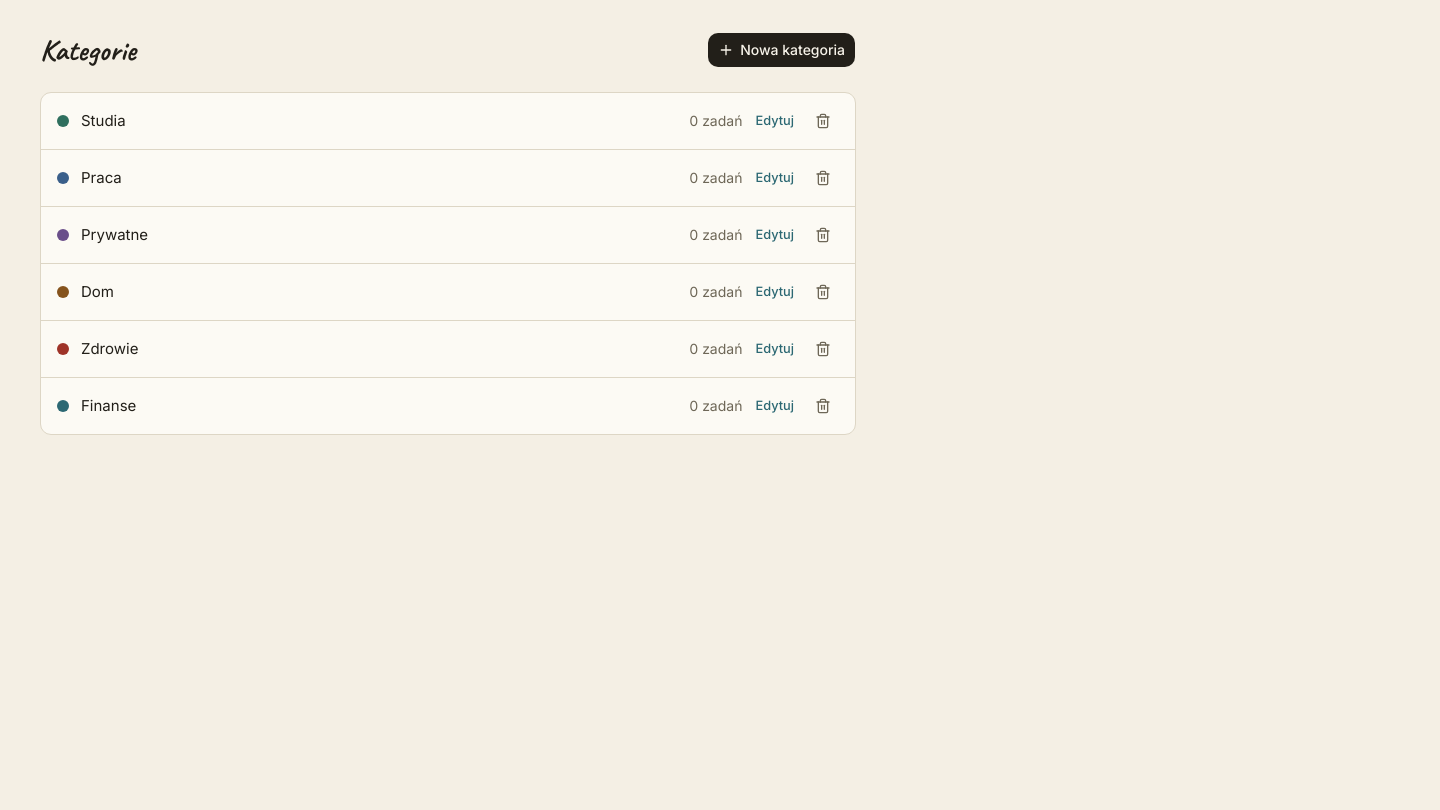
CategoriesPage (P-H) › dodaje nową kategorię przez dialog
Click the button "Nowa kategoria" at x=782, y=50, box [707, 32, 856, 68]
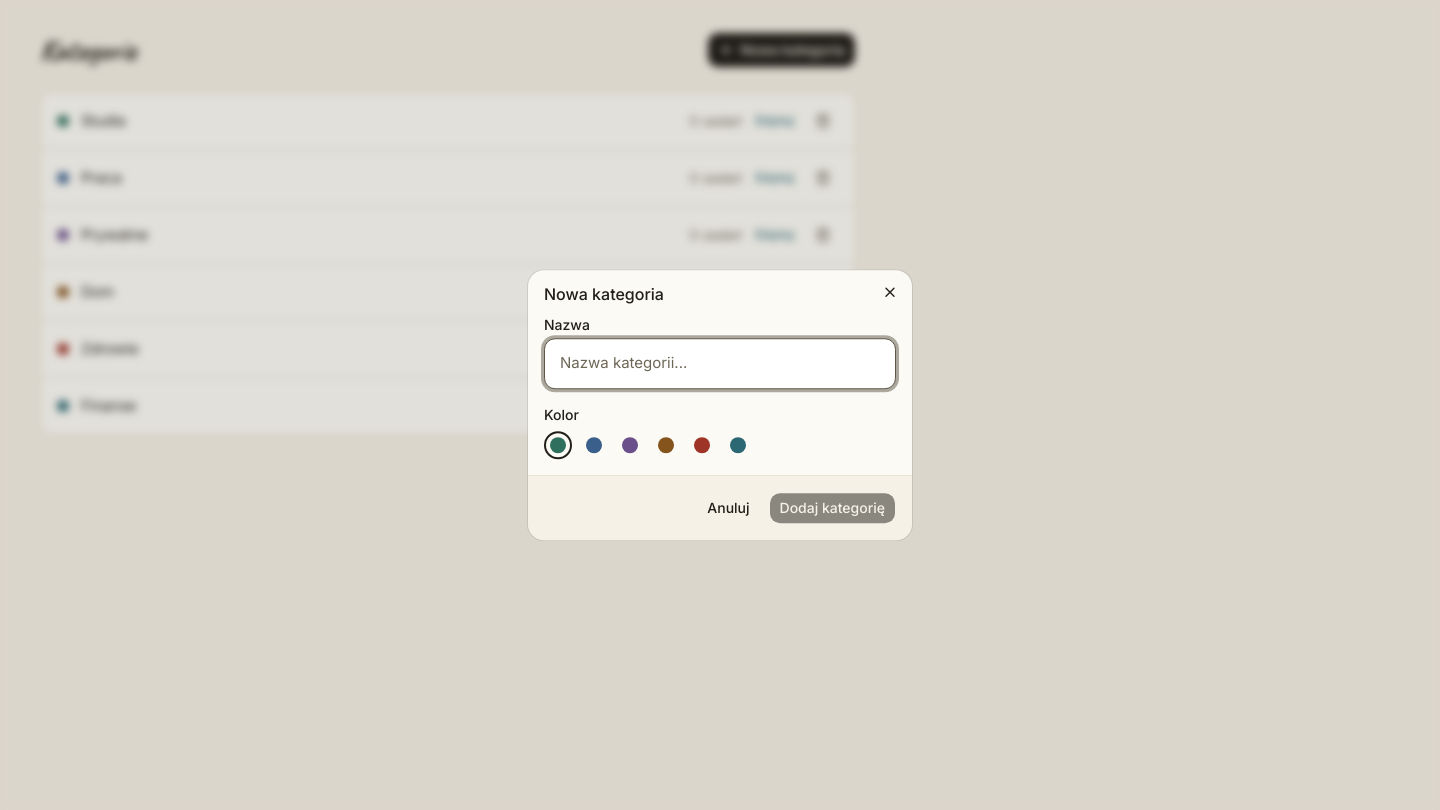
Type "Projekty" into the field labelled "Nazwa" at x=720, y=364, box [544, 338, 896, 389]
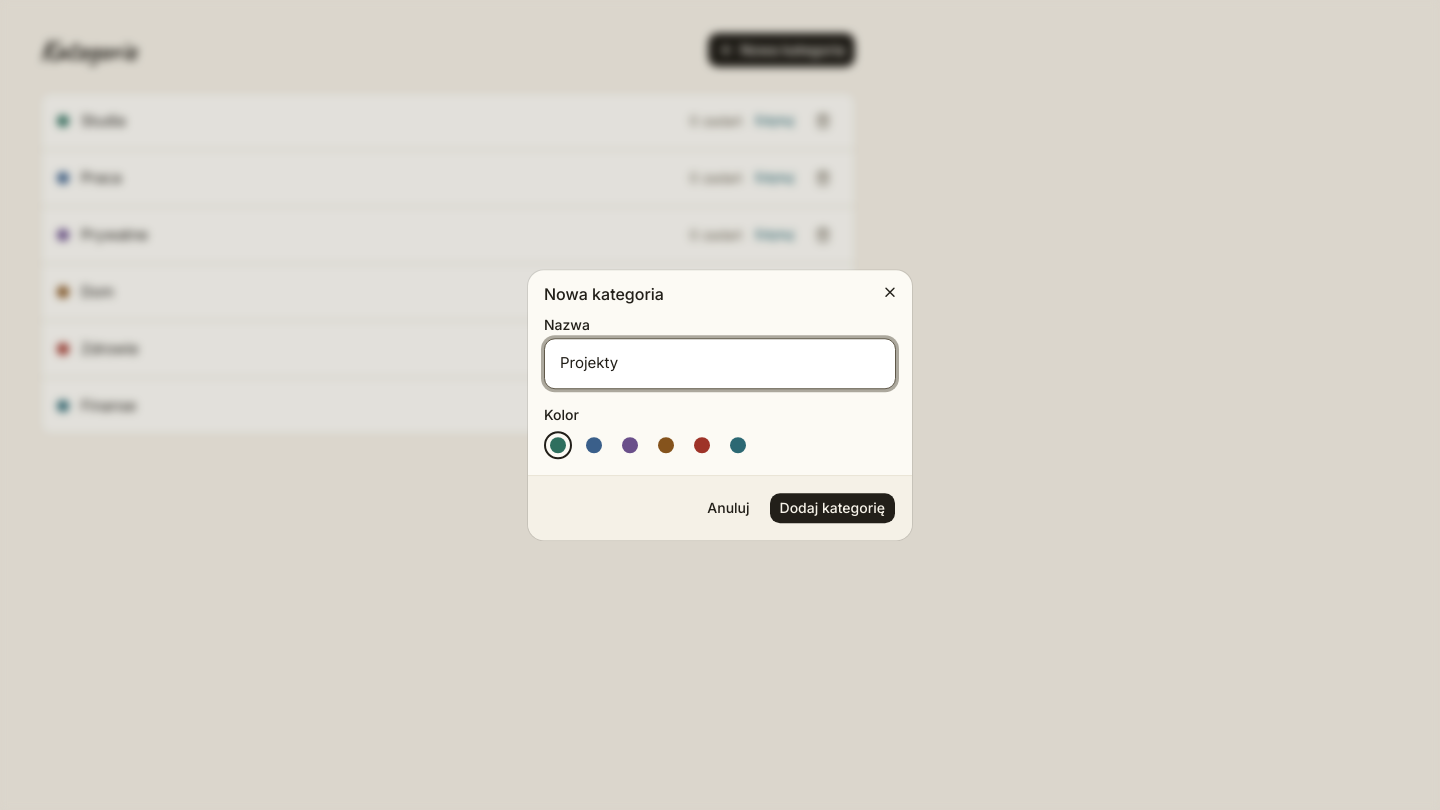
Click the button "Dodaj kategorię" at x=832, y=508, box [768, 492, 896, 524]
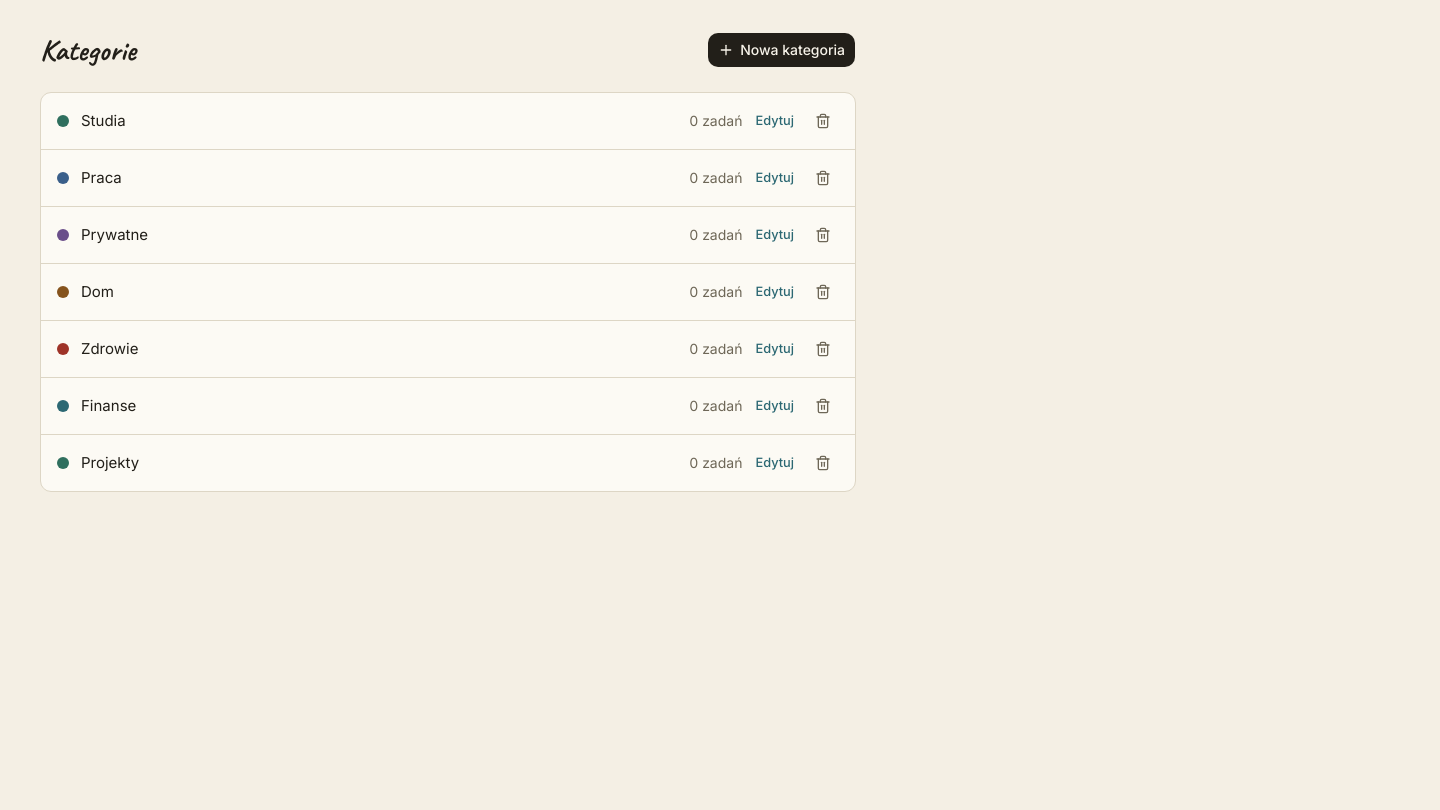
Expected: the text "Projekty" is shown, [81, 453, 139, 472]
